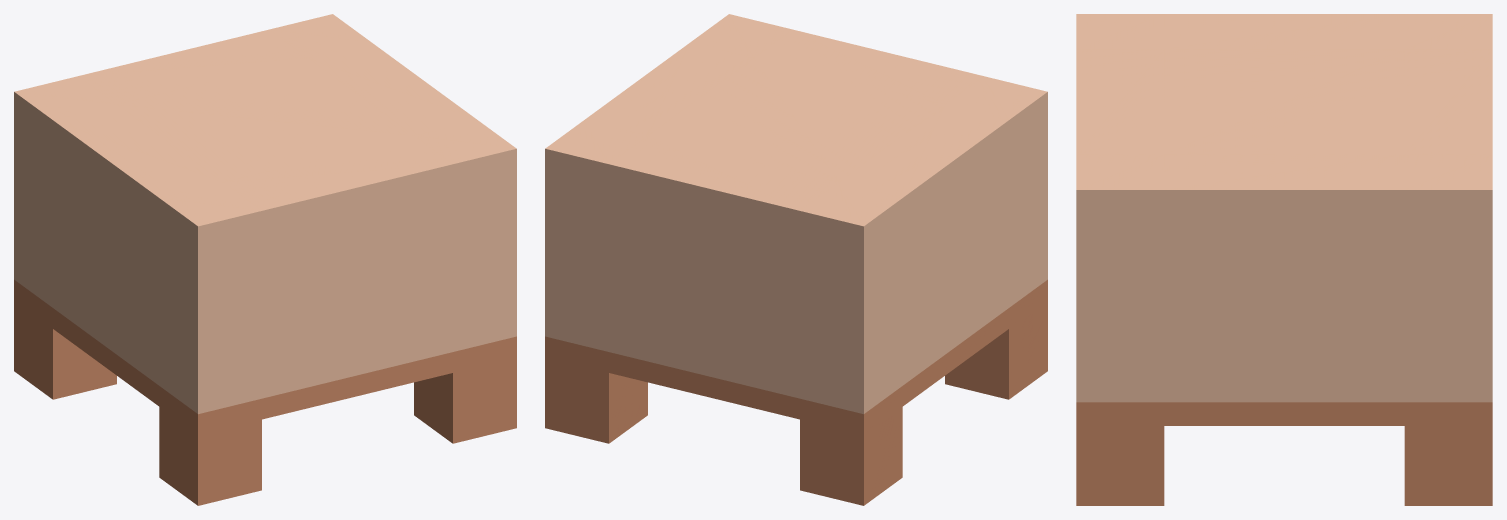
The model's file is BuildingBlockPillars.fbx.
3 views of the same model, side by side, from view 1: azimuth 30°, elevation 25°; view 2: azimuth 150°, elevation 25°; view 3: azimuth 270°, elevation 25° (orthographic). The views are drawn at different scales.
Parts seen in each view (by area): view 1: BuildingBlockPillars; view 2: BuildingBlockPillars; view 3: BuildingBlockPillars.
Part boxes in pixels (x1=…): BuildingBlockPillars: x1=14, y1=14, x2=516, y2=505; BuildingBlockPillars: x1=545, y1=14, x2=1047, y2=505; BuildingBlockPillars: x1=1076, y1=14, x2=1492, y2=505.
Size of the model in its own units: 300 by 251 by 300.
